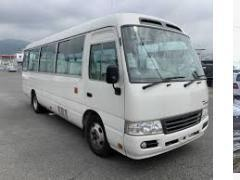bus: (21, 12, 208, 162)
